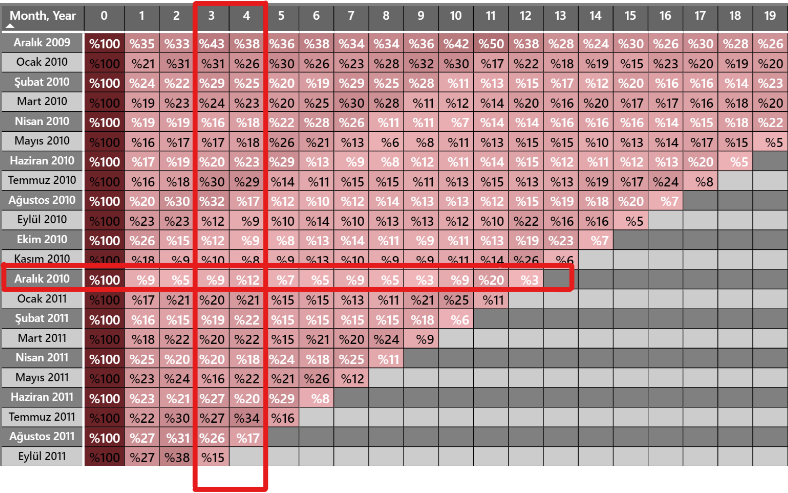

This screenshot's page, from the dashboard's own definition file:
{"tool":"powerbi","page":{"name":"Cohort Performance %","canvas":[1300,750],"ordinal":1},"visuals":[{"type":"pivotTable","fields":{"Rows":["DimDate.Start of Month"],"Columns":["FactSales.Month Since First Transaction"],"Values":["Measure.Retention Rate"]},"box":[8.8,55,1281.2,695],"z":2000},{"type":"textbox","title":"COHORT PERFORMANCE %","box":[272.5,5,795,47.5],"z":2001}]}

Visuals, with their boxes on the page's 1300x750 design canvas (x1, y1, x2, y2). These are canvas units, not pixel positions in the 788x493 screenshot, which may show the page scaled, cropped or inside an application window:
pivotTable - DimDate.Start of Month x FactSales.Month Since First Transaction: bbox=[9, 55, 1290, 750]
"COHORT PERFORMANCE %" textbox: bbox=[272, 5, 1068, 52]
